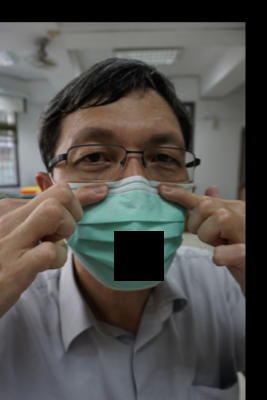with_mask: (47, 122, 192, 289)
